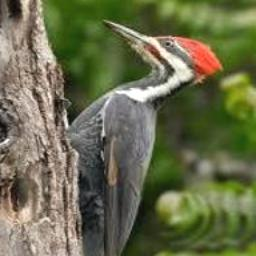Woodpecker: (65, 19, 223, 256)
